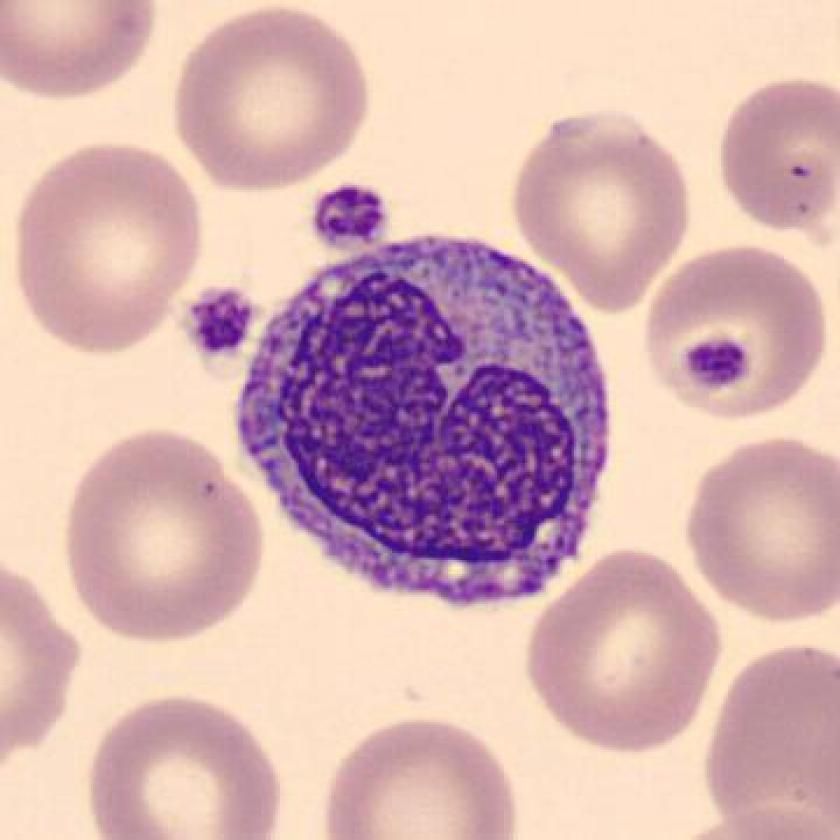monocyte: (218, 209, 631, 635)
